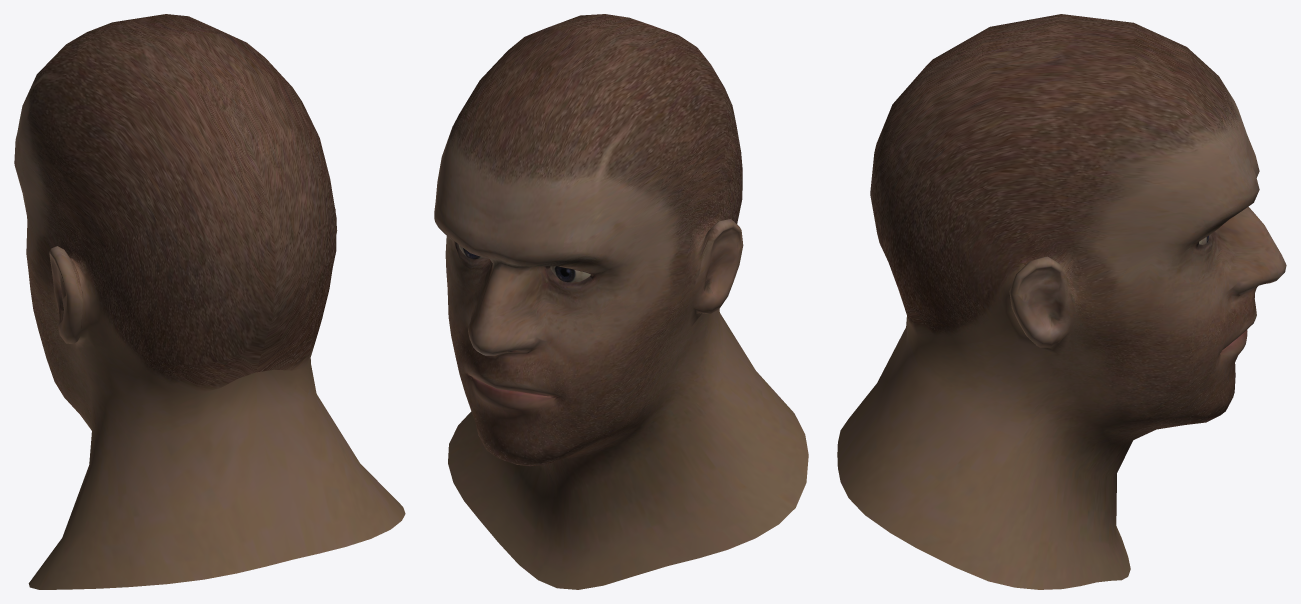
Rendered from G3_Head_Hero_Myrtana_Animated_05_S01.obj.
The picture shows the model from 3 angles, left to right: view 1: azimuth 30°, elevation 25°; view 2: azimuth 150°, elevation 25°; view 3: azimuth 270°, elevation 25°; orthographic projection. The views are drawn at different scales.
Parts seen in each view (by area): view 1: G3_Animation_Head_Main_05; view 2: G3_Animation_Head_Main_05; view 3: G3_Animation_Head_Main_05.
Boxes of the visible parts, x1,y1,x2,y2 form: G3_Animation_Head_Main_05: [14, 14, 405, 589]; G3_Animation_Head_Main_05: [434, 14, 808, 589]; G3_Animation_Head_Main_05: [837, 14, 1286, 589].
Bounding box in the file's own units: 0.2312 × 0.3482 × 0.2618.
